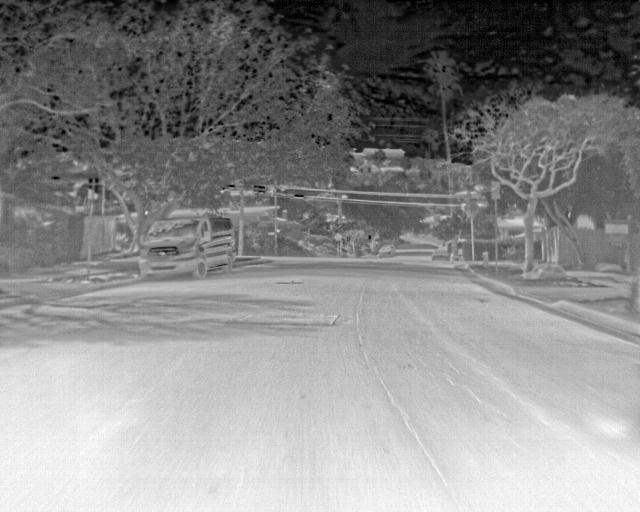car: (136, 214, 238, 281), (376, 242, 393, 257)
